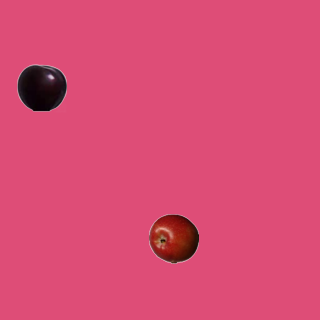Apple Braeburn: (148, 213, 198, 263)
Cherry Wax Black: (16, 62, 66, 112)
